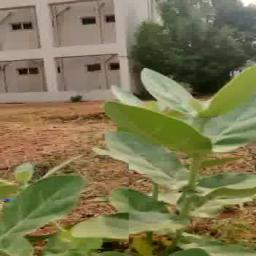Calotropis: (95, 59, 255, 251), (0, 154, 130, 250)
